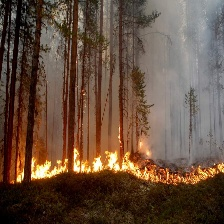fire: (12, 150, 224, 188)
smoke: (150, 1, 223, 146)
